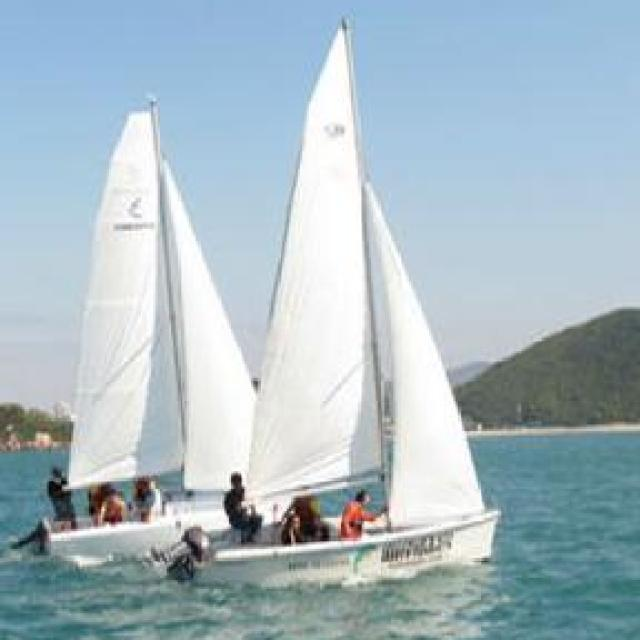sailboat: (200, 18, 502, 576), (42, 99, 302, 547)
